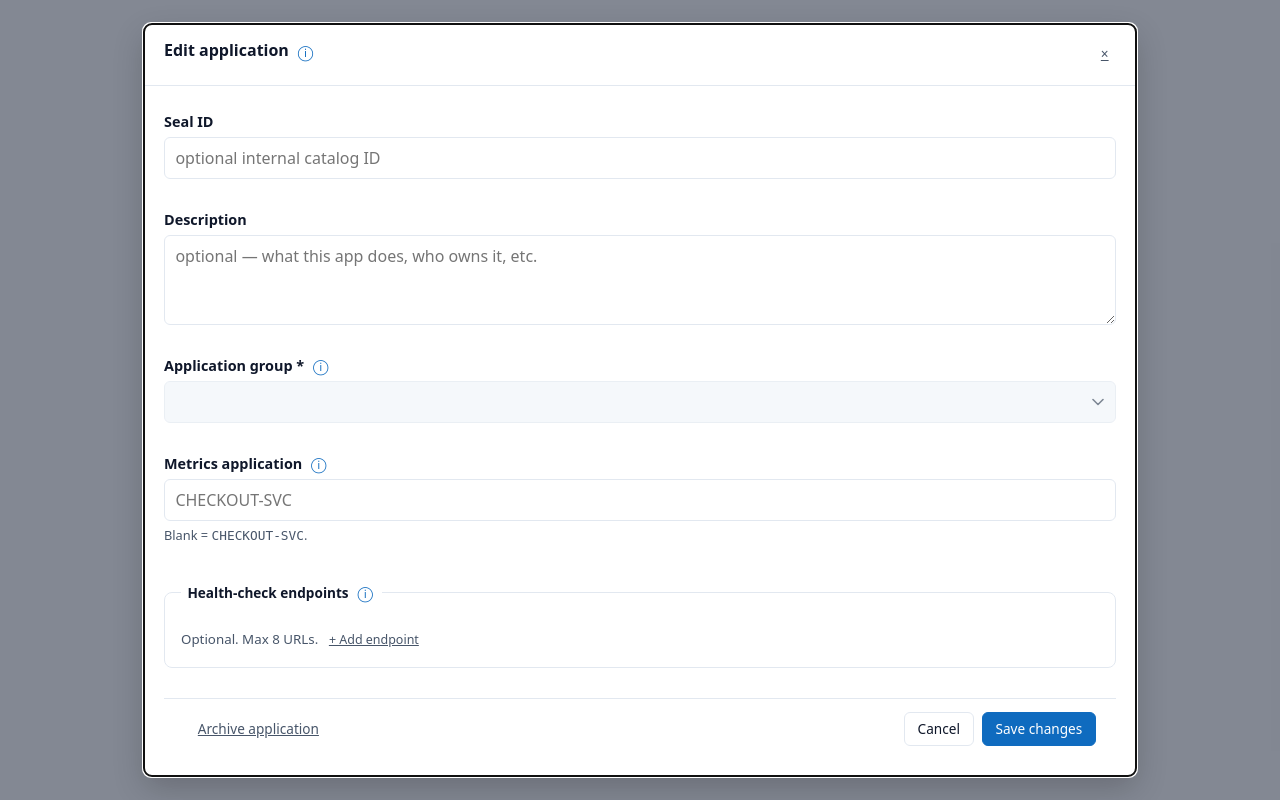
Test case: CreateApplicationDialog — archive (edit mode) › clicking Archive shows a focused confirmation (what changes + what's retained, no Kafka-internals copy)
(page scrolled)
Click the button "Archive application" at [258, 729], box [184, 712, 333, 746]
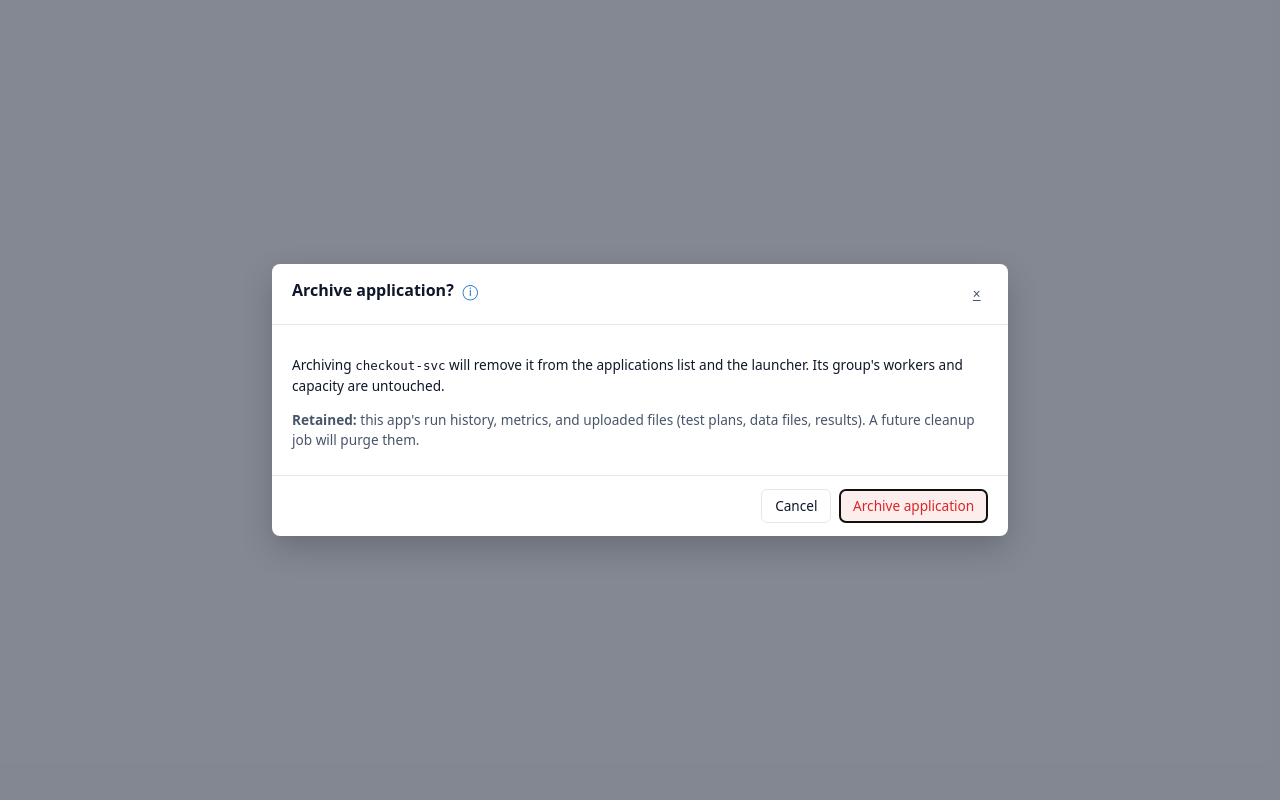
expect the text "remove it from the applications list" is shown: met, box [292, 355, 963, 395]
expect the text "run history, metrics, and uploaded files" is shown: met, box [292, 410, 975, 449]
expect the button "Save changes" is gone: met
